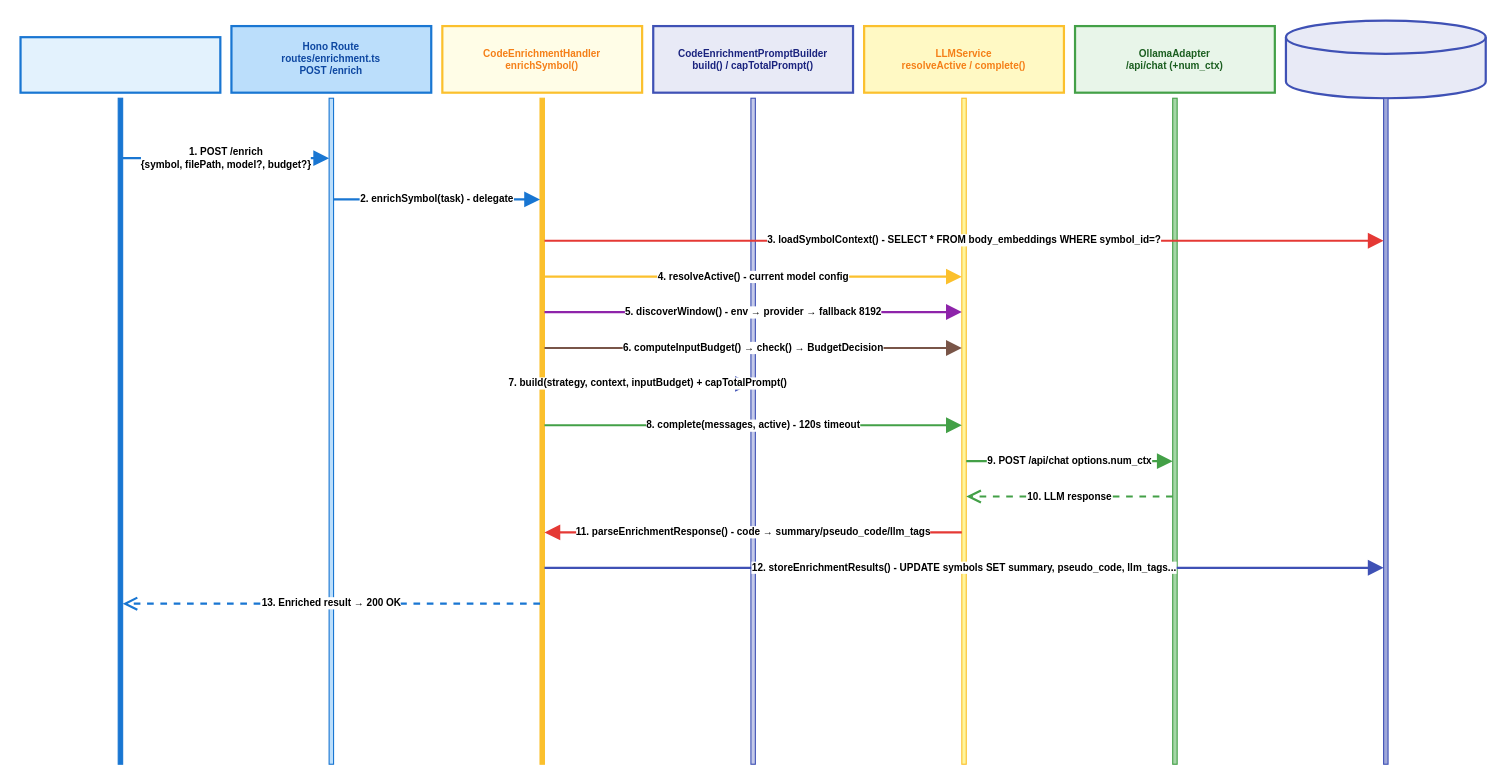
Image size: 1505x784. Some labels were removed from this diagram. Here are the shapes that lost their labels. From the top down, the box of each, then its label:
(19, 36, 221, 93): Client
(1284, 19, 1486, 99): SQLite symbols / body_embeddings
